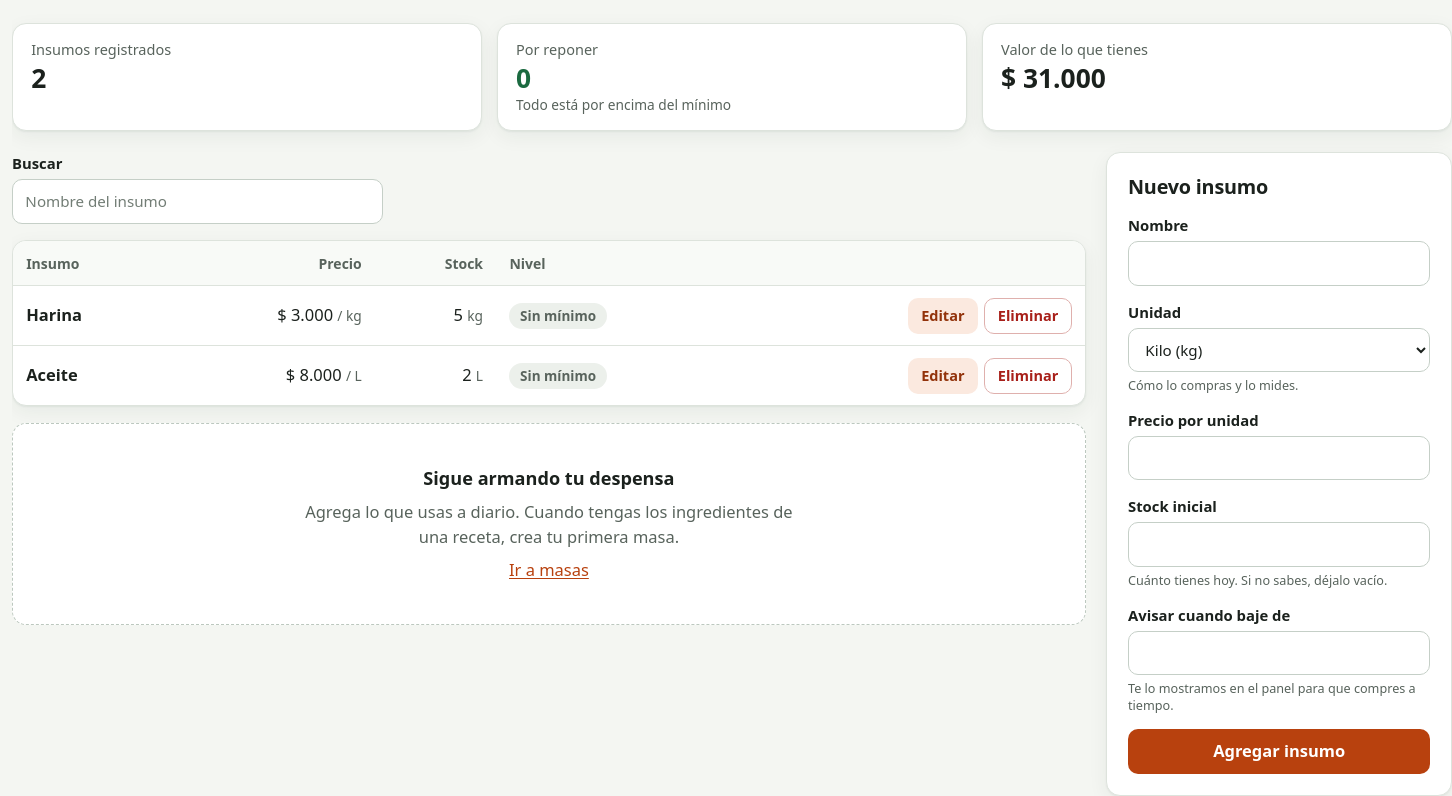
HU-03 Insumos (funcionales) › CA-2 y CA-3: muestra el error que devuelve la validación
This screenshot has width=1452, height=796.
(page scrolled)
What coordinates should you click on to do the following:
click the button "Agregar insumo"
I would click on:
 (1279, 752)
Its box is [1128, 729, 1430, 774].
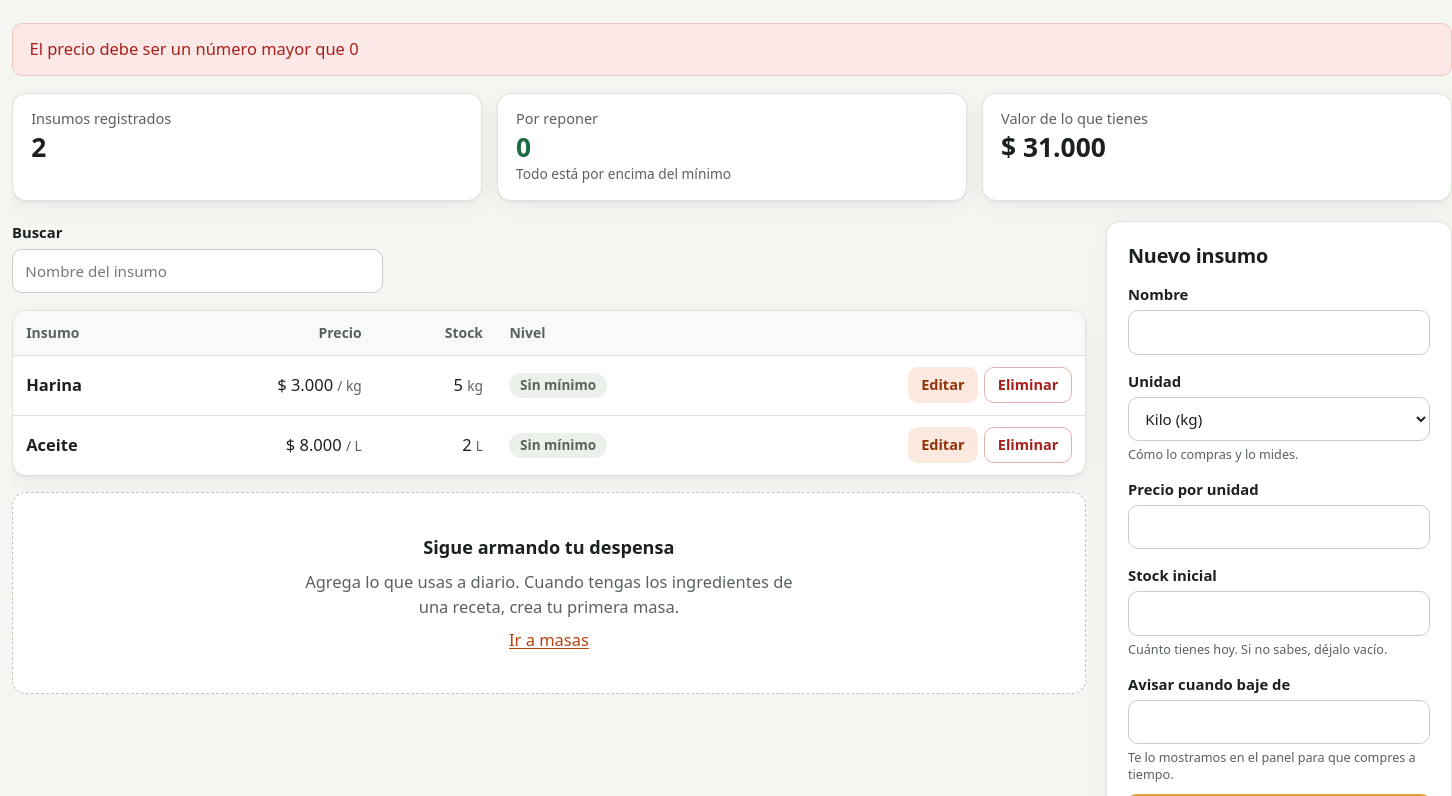
Now the message shows "mayor que 0", box [30, 37, 359, 60]
